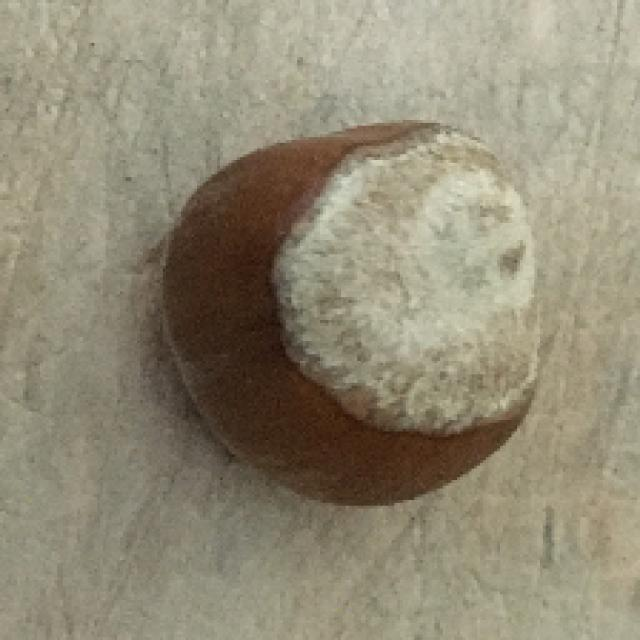qualityHazelnut: (163, 124, 547, 508)
